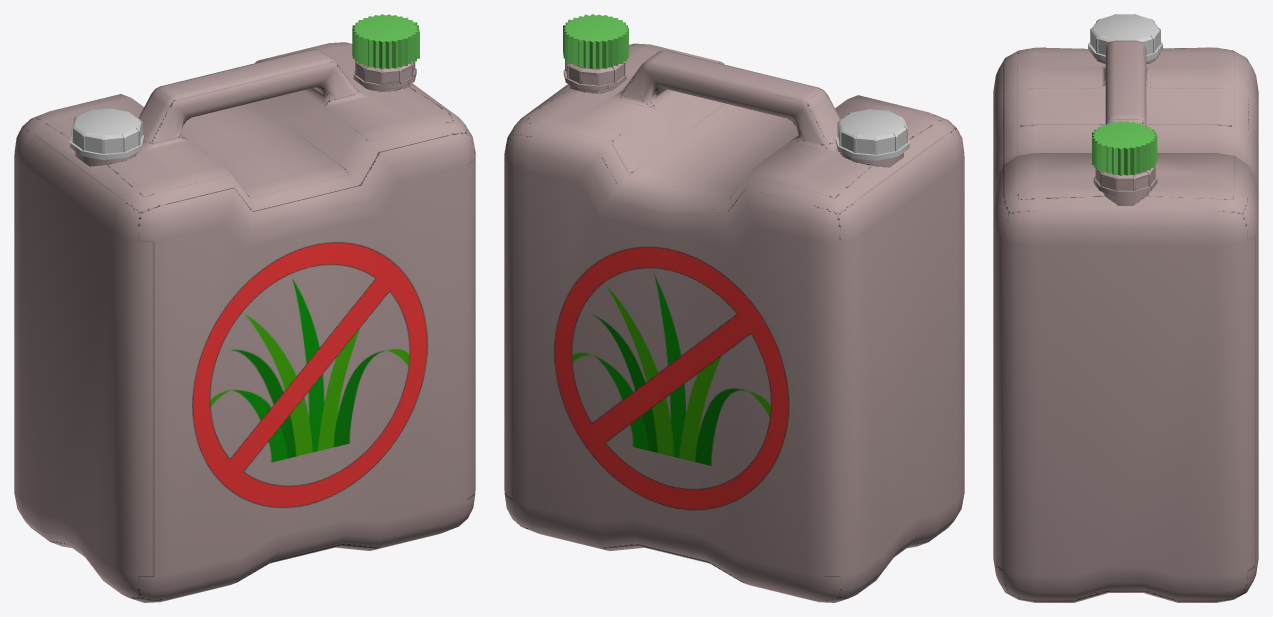
The model's file is Chemicals001v2.fbx.
3 renders of one model, left to right at view 1: azimuth 30°, elevation 25°; view 2: azimuth 150°, elevation 25°; view 3: azimuth 270°, elevation 25°, orthographic.
Parts seen in each view (by area): view 1: Chemicals_body, Chemicals_cap01 (×2); view 2: Chemicals_body, Chemicals_cap01 (×2); view 3: Chemicals_body, Chemicals_cap01 (×2).
Part boxes in pixels (left/top/right/bottom): Chemicals_body: left=14, top=42, right=475, bottom=602; Chemicals_cap01 (×2): left=70, top=14, right=419, bottom=159; Chemicals_body: left=504, top=43, right=964, bottom=602; Chemicals_cap01 (×2): left=563, top=14, right=909, bottom=160; Chemicals_body: left=993, top=40, right=1258, bottom=602; Chemicals_cap01 (×2): left=1088, top=14, right=1162, bottom=175.
Size of the model in its own units: 2.55 by 3.22 by 1.67.
3 materials, 1 textured.
